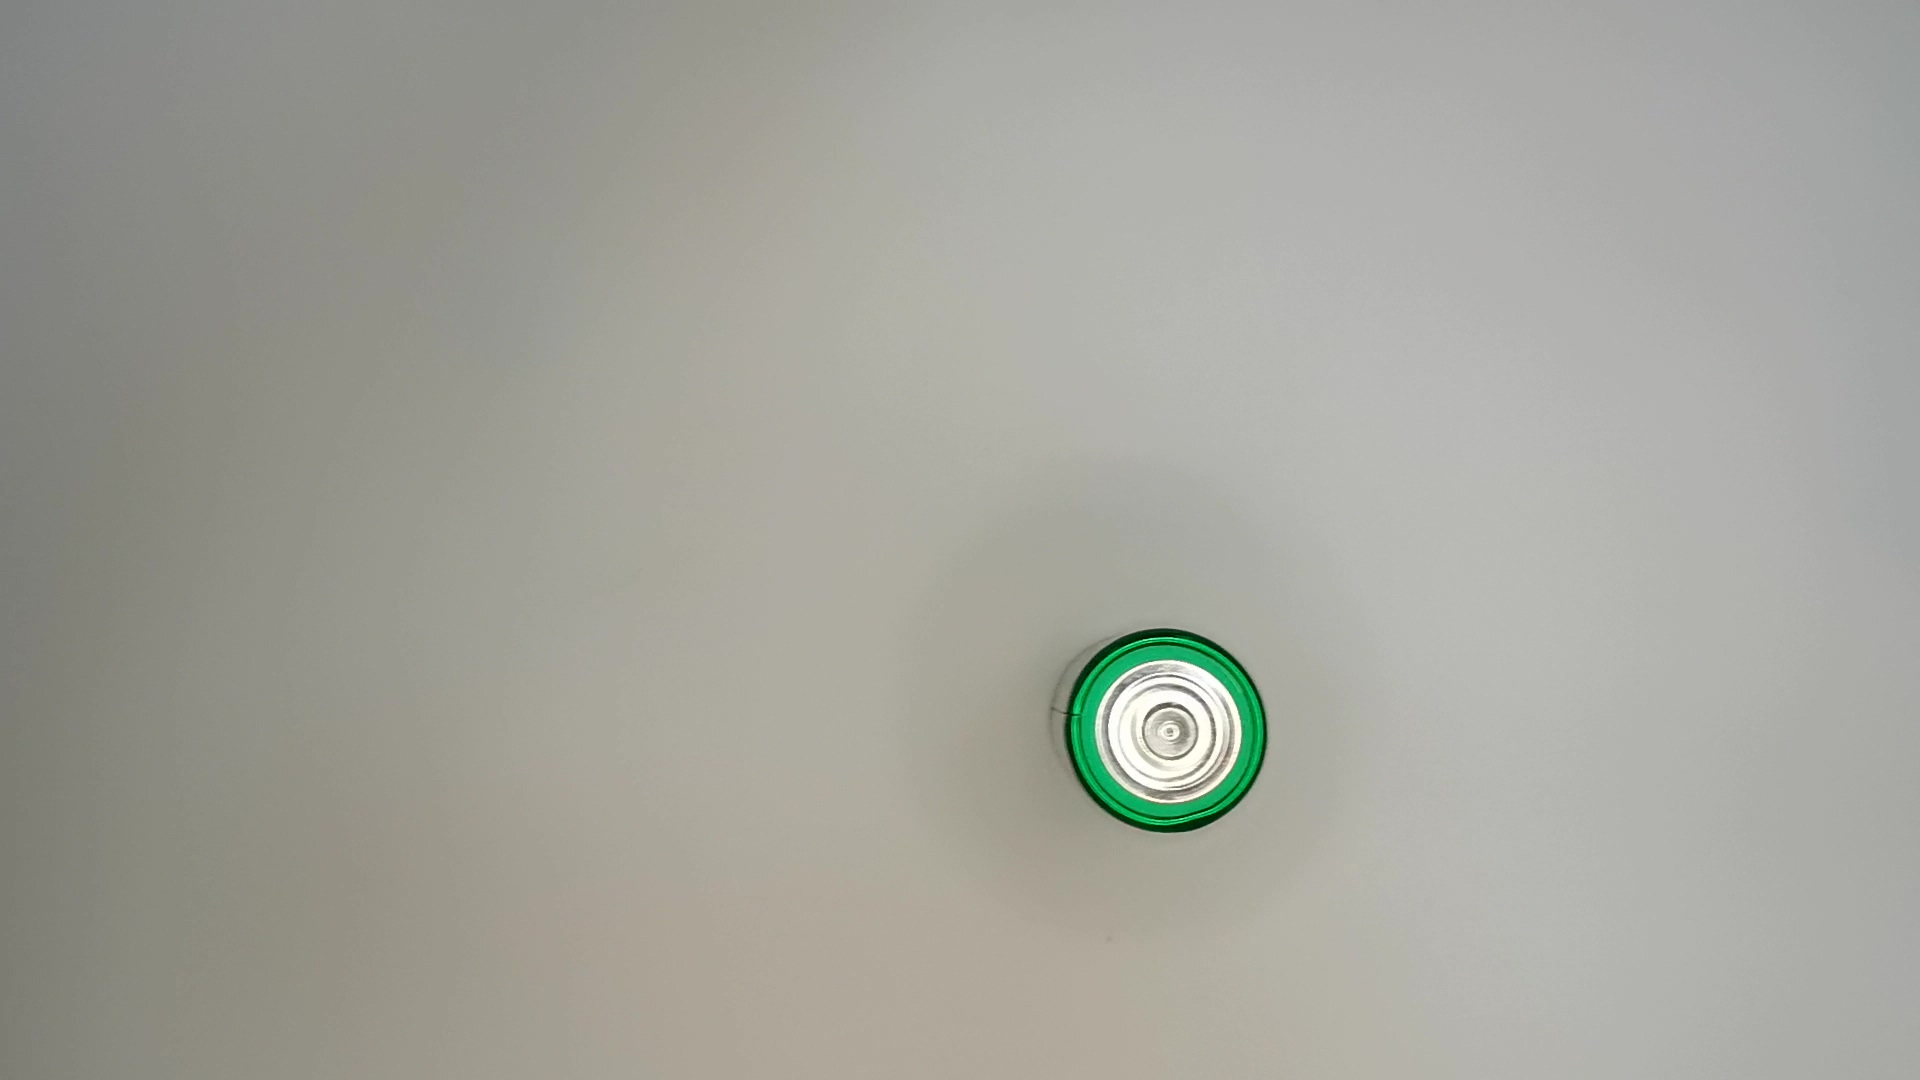battery: (1048, 626, 1275, 839)
